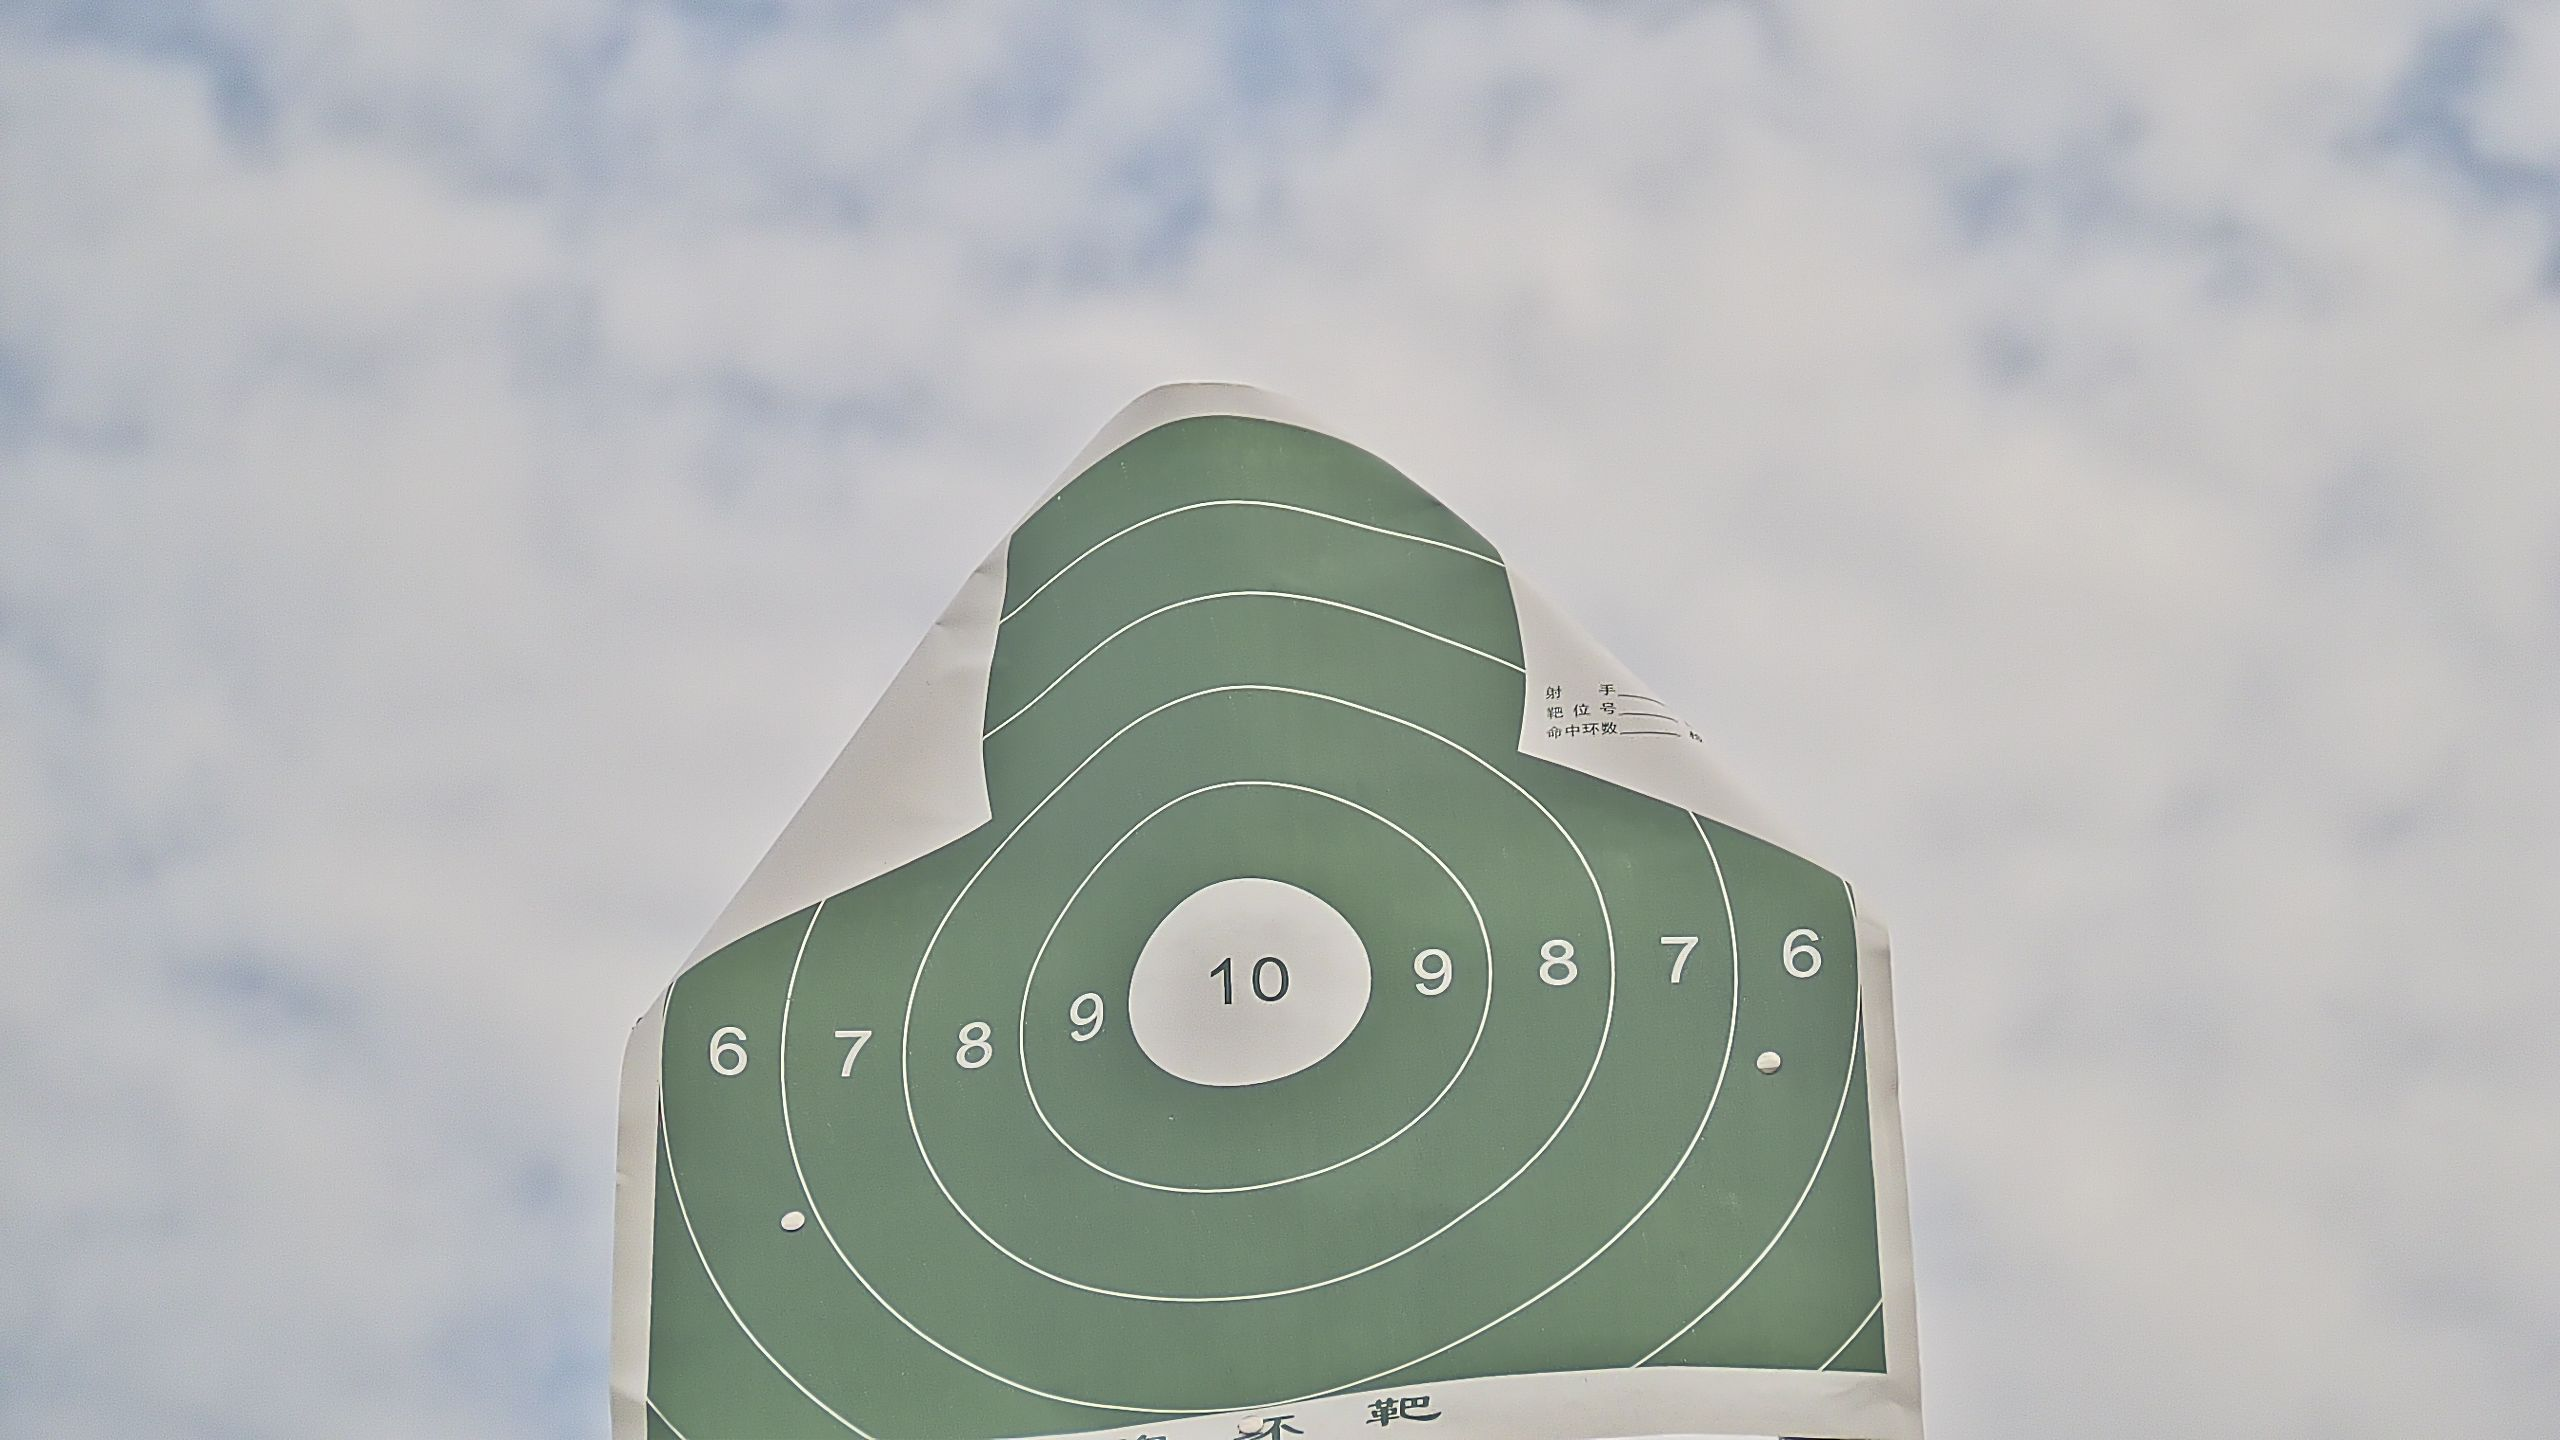kernel: (1240, 979, 1241, 983)
target: (642, 410, 1890, 1440)
ten: (1125, 877, 1377, 1090)
